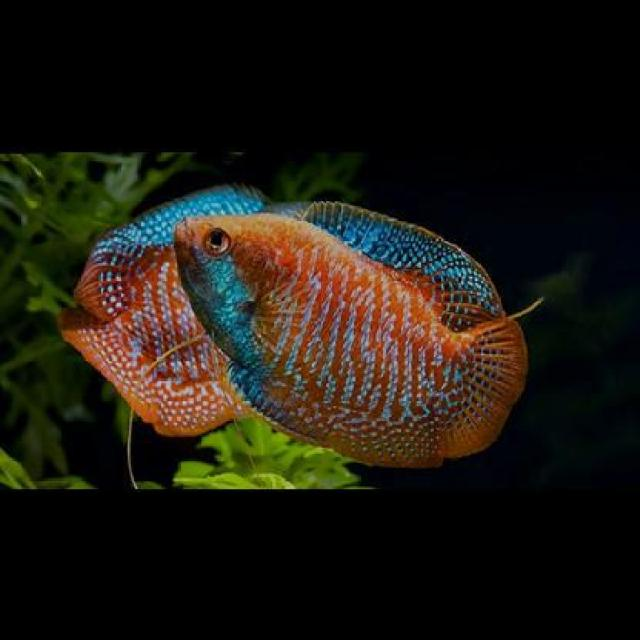Gourami: (171, 196, 531, 470)
